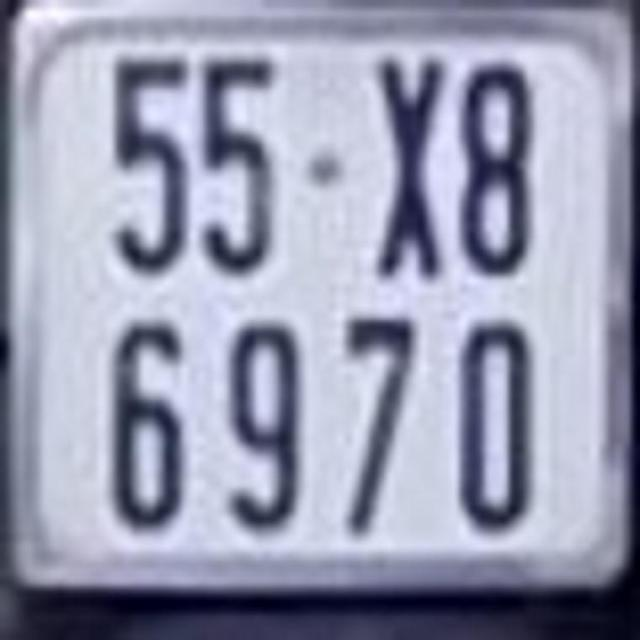0: (444, 314, 535, 533)
5: (196, 45, 275, 278), (110, 51, 190, 268)
6: (108, 314, 184, 525)
7: (338, 311, 418, 532)
8: (458, 58, 537, 279)
9: (222, 316, 296, 527)
X: (367, 53, 449, 284)
